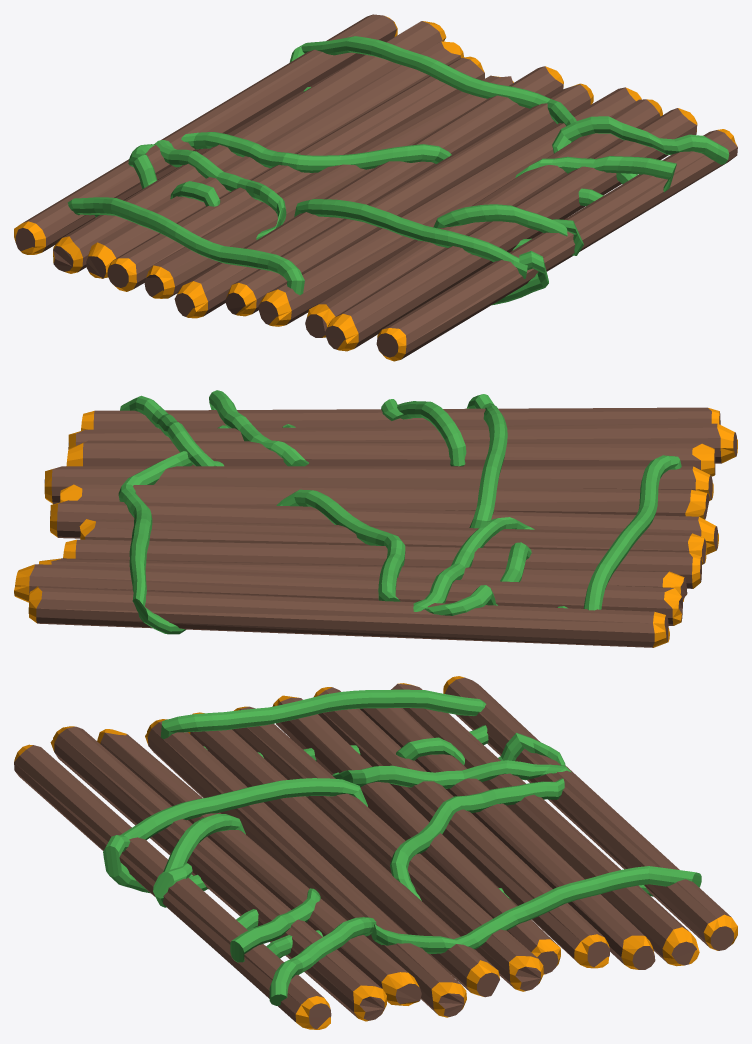
The model's file is scene_5HweX7jEFN.glb.
3 renders of one model, top to bottom at view 1: azimuth 30°, elevation 25°; view 2: azimuth 150°, elevation 25°; view 3: azimuth 270°, elevation 25°, orthographic. The views are drawn at different scales.
Parts seen in each view (by area): view 1: group2141293897, group1706443611, group891834713, group854054399, group1595902111, group237087235, group1672960609, group674545204, group1462104223, group1354093550, group1615500463, group1668284357 (+6 smaller); view 2: group891834713, group674545204, group1668284357, group854054399, group237087235, group1672960609, group1595902111, group1354093550, group1706443611, group2141293897, group1462104223, group1615500463 (+6 smaller); view 3: group1706443611, group2141293897, group854054399, group237087235, group1595902111, group1672960609, group891834713, group674545204, group1668284357, group1462104223, group1354093550, group1615500463 (+6 smaller).
Part boxes in pixels (x1,y1,x2,y2): group2141293897: [376, 129, 737, 361]; group1706443611: [325, 108, 697, 351]; group891834713: [14, 14, 397, 254]; group854054399: [258, 87, 641, 326]; group1595902111: [174, 66, 563, 318]; group237087235: [225, 83, 593, 316]; group1672960609: [107, 56, 484, 291]; group674545204: [53, 21, 446, 273]; group1462104223: [181, 36, 576, 172]; group1354093550: [144, 75, 513, 298]; group1615500463: [86, 41, 464, 278]; group1668284357: [305, 99, 662, 337]; group891834713: [28, 586, 669, 647]; group674545204: [14, 564, 682, 625]; group1668284357: [66, 440, 715, 476]; group854054399: [44, 466, 713, 504]; group237087235: [60, 484, 709, 519]; group1672960609: [63, 539, 701, 588]; group1595902111: [50, 500, 718, 554]; group1354093550: [79, 519, 706, 564]; group1706443611: [68, 423, 737, 463]; group2141293897: [81, 407, 720, 430]; group1462104223: [118, 451, 405, 634]; group1615500463: [39, 558, 687, 601]; group1706443611: [50, 726, 386, 1021]; group2141293897: [14, 744, 331, 1029]; group854054399: [145, 719, 466, 1017]; group237087235: [188, 712, 499, 997]; group1595902111: [232, 706, 543, 991]; group1672960609: [314, 687, 609, 968]; group891834713: [443, 676, 737, 950]; group674545204: [391, 683, 699, 966]; group1668284357: [97, 729, 421, 1005]; group1462104223: [371, 778, 701, 953]; group1354093550: [272, 695, 560, 974]; group1615500463: [360, 708, 655, 969].
Size of the model in its own units: 1.67 by 0.225 by 1.57.
